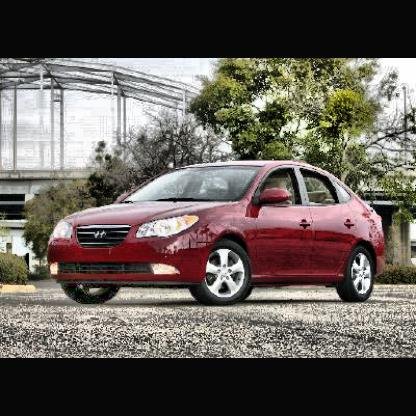Hyundai Elantra Sedan 2007: (46, 160, 389, 308)
